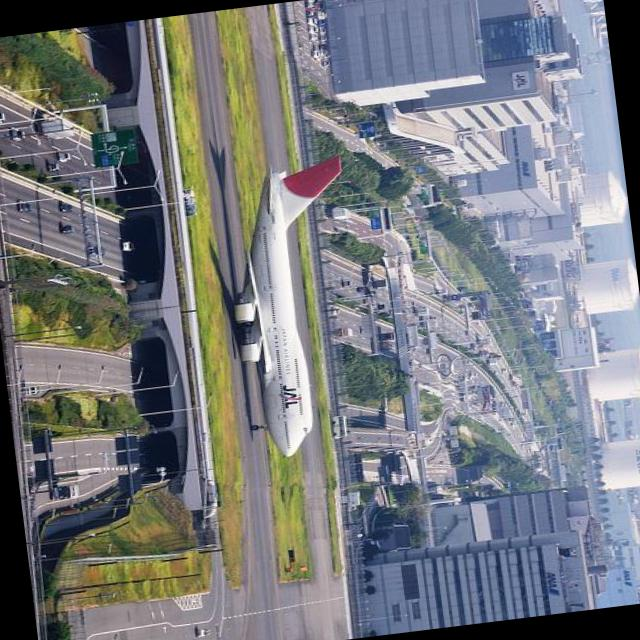aeroplane: (213, 153, 374, 466)
bus: (48, 484, 79, 501), (330, 414, 348, 440)
car: (14, 197, 31, 214), (84, 244, 105, 257), (9, 128, 26, 144), (194, 626, 211, 638), (58, 202, 74, 214), (118, 240, 134, 252), (54, 151, 70, 163), (58, 224, 74, 235), (44, 162, 60, 172), (309, 50, 319, 59), (0, 109, 5, 124), (329, 309, 339, 315), (355, 286, 362, 293)
traffic light: (408, 242, 411, 244)
truck: (34, 116, 74, 142), (330, 326, 352, 339), (8, 128, 25, 142)
